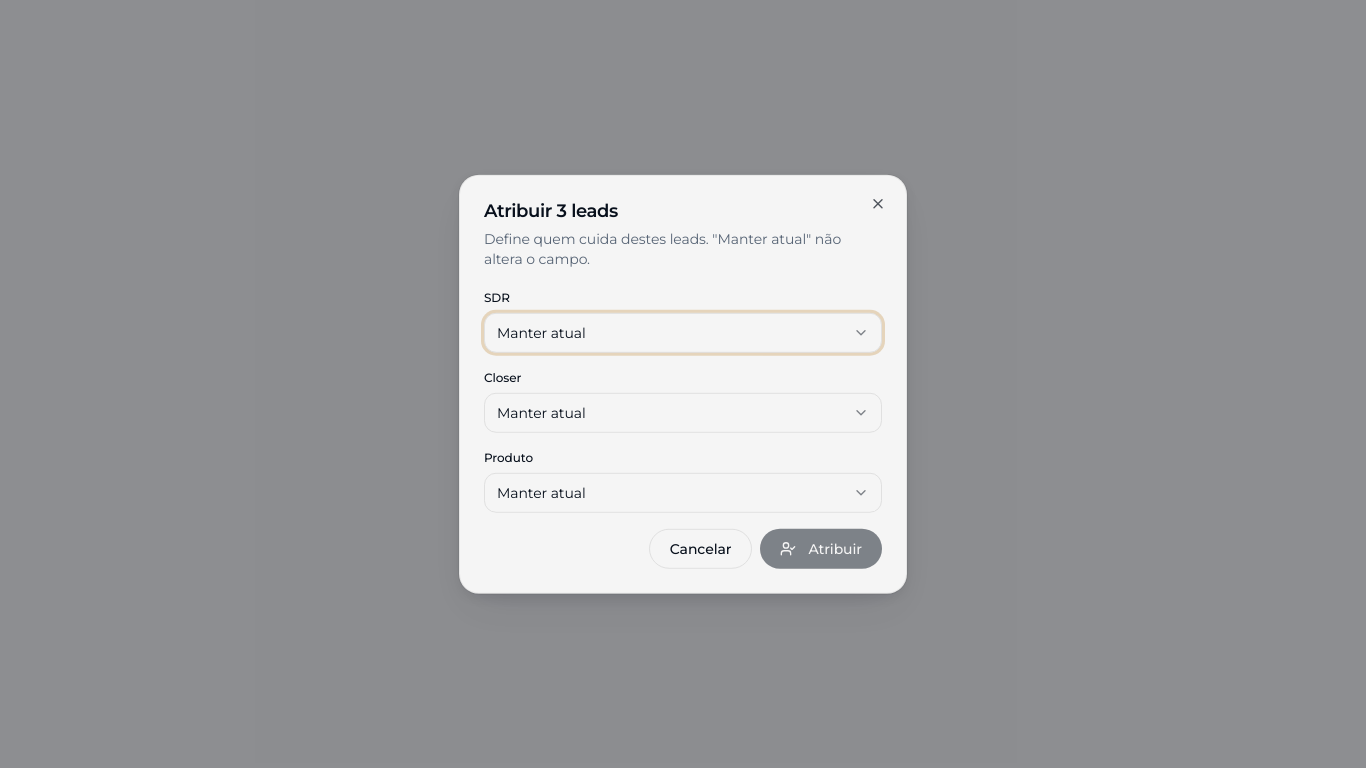
Test: AtribuirLeadsDialog › desabilita confirmar enquanto tudo é 'manter atual' e envia só o que mudou
Later steps or results of the test are not shown.
Expected: the heading "Atribuir 3 leads" is shown, x1=484 y1=200 x2=618 y2=222
Expected: the button "Atribuir" is disabled, x1=760 y1=528 x2=882 y2=568
// Radix Select em jsdom: abre com click no combobox e escolhe pela opção.
What coordinates should you click on to do the following:
click the dropdown named "SDR"
I would click on:
 (541, 332)
Its box is x1=484 y1=312 x2=882 y2=352.
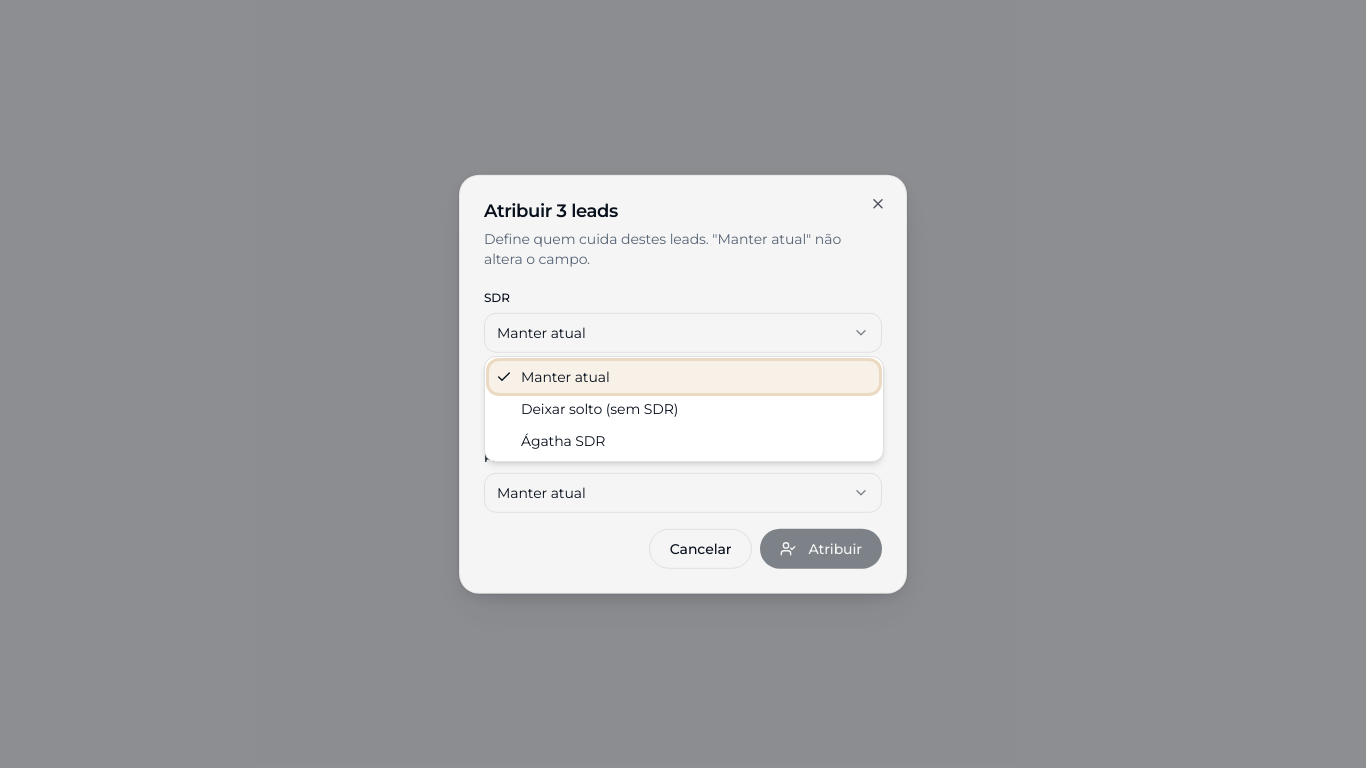
What coordinates should you click on to do the following:
click the option "Deixar solto (sem SDR)"
I would click on:
 (600, 409)
Its box is x1=521 y1=400 x2=678 y2=418.
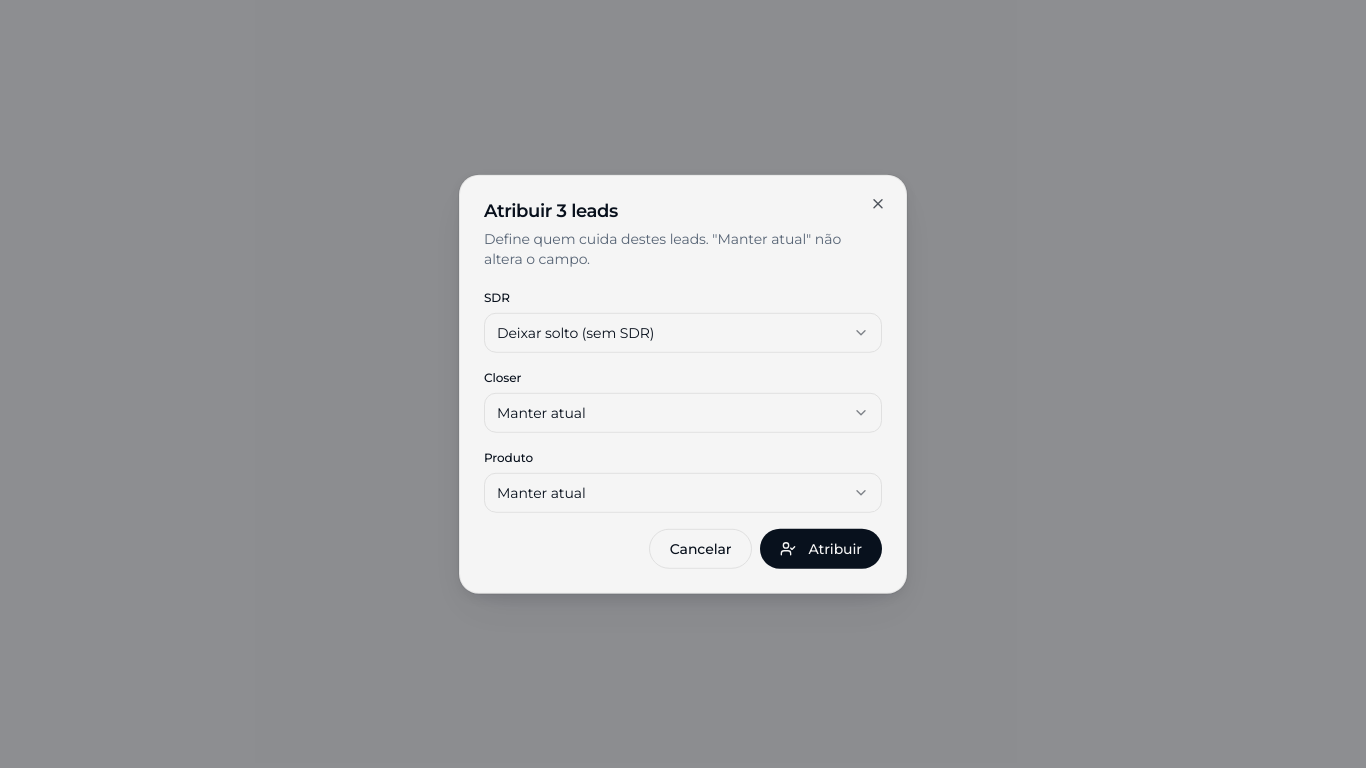
What coordinates should you click on to do the following:
click the dropdown named "Closer"
I would click on:
 (541, 412)
Its box is x1=484 y1=392 x2=882 y2=432.
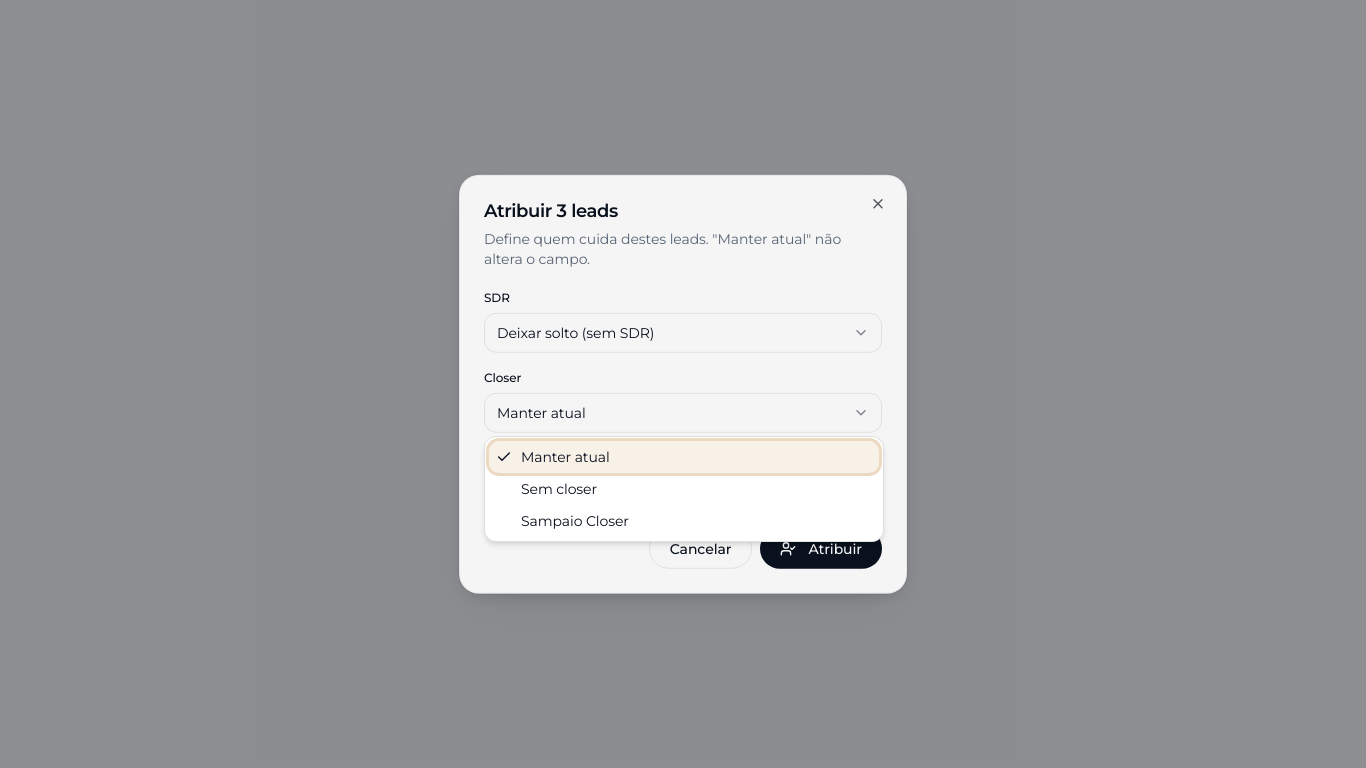
What coordinates should you click on to do the following:
click the option "Sampaio Closer"
I would click on:
 (575, 521)
Its box is x1=521 y1=512 x2=629 y2=530.
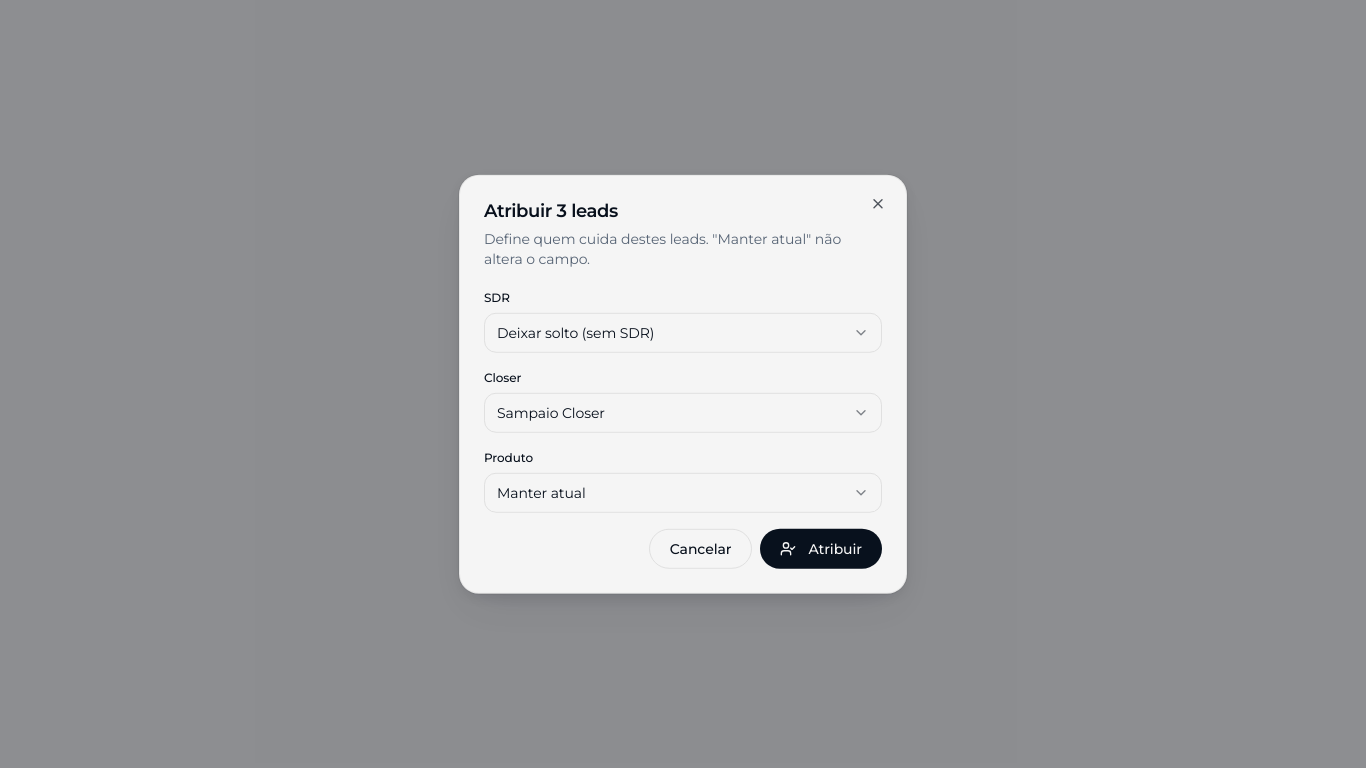
Expected: the button "Atribuir" is enabled, x1=760 y1=528 x2=882 y2=568
